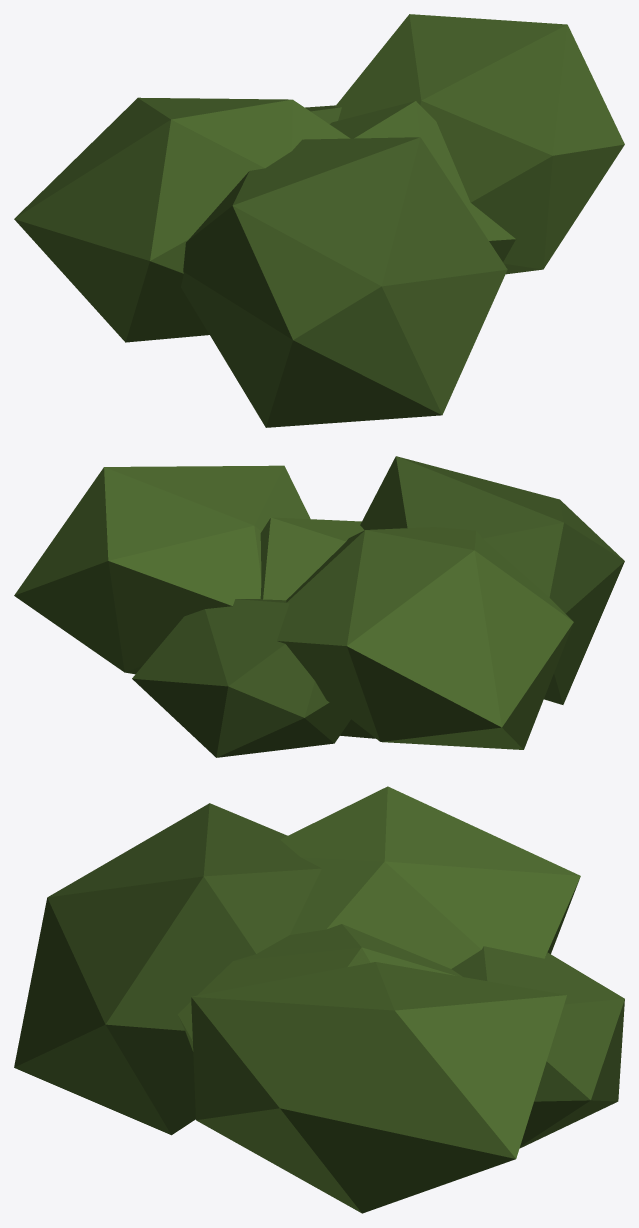
The model's file is e4b_busk.glb.
3 views of the same model, one above another, from view 1: azimuth 30°, elevation 25°; view 2: azimuth 150°, elevation 25°; view 3: azimuth 270°, elevation 25° (orthographic). The views are drawn at different scales.
Parts seen in each view (by area): view 1: E4_busk_b; view 2: E4_busk_b; view 3: E4_busk_b.
Boxes of the visible parts, x1,y1,x2,y2 form: E4_busk_b: [14, 14, 624, 427]; E4_busk_b: [14, 456, 624, 757]; E4_busk_b: [14, 786, 624, 1213].
Size of the model in its own units: 2.27 by 0.9689 by 1.99.
